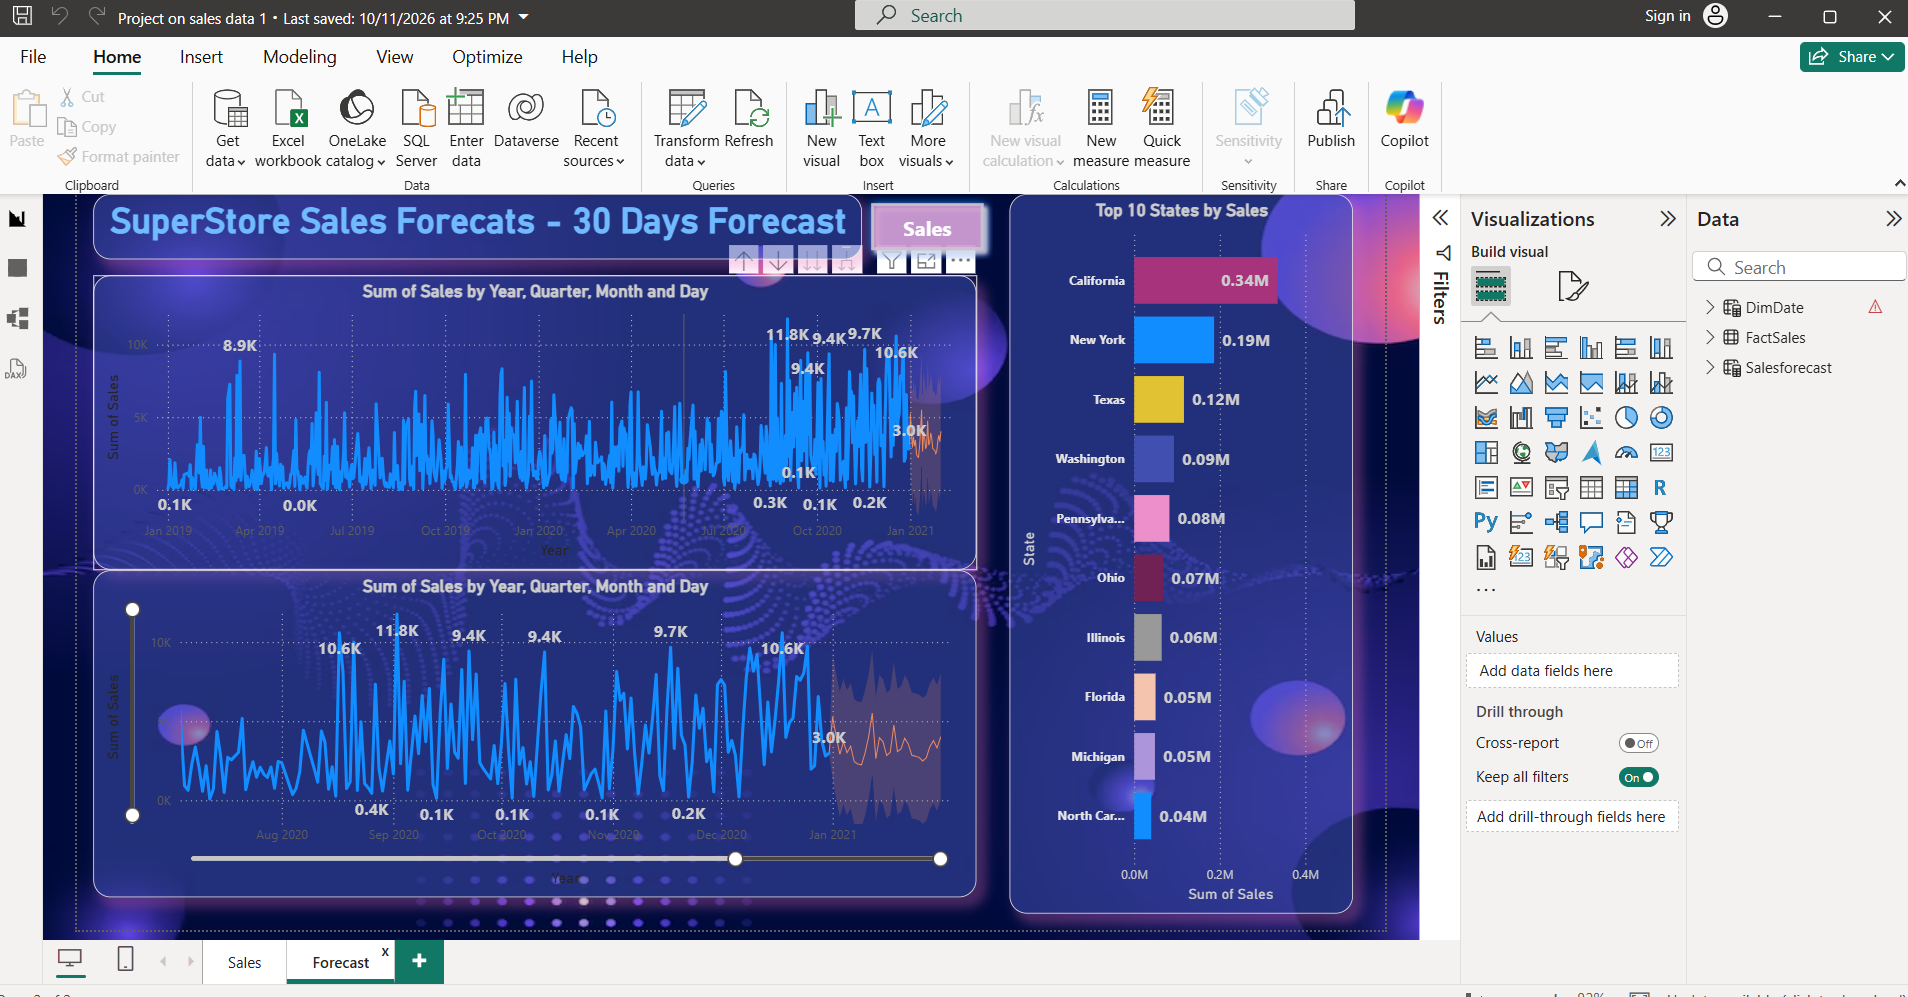

The dashboard page shown, as its layout file describes it:
{"tool":"powerbi","page":{"name":"Forecast","canvas":[1280,720],"ordinal":1},"visuals":[{"type":"lineChart","fields":{"Y":["Sum(SuperStore_Sales_Dataset.Sales)"],"Category":["SuperStore_Sales_Dataset.Order Date.Variation.Date Hierarchy.Year","SuperStore_Sales_Dataset.Order Date.Variation.Date Hierarchy.Quarter","SuperStore_Sales_Dataset.Order Date.Variation.Date Hierarchy.Month","SuperStore_Sales_Dataset.Order Date.Variation.Date Hierarchy.Day"]},"box":[16,80,864,288],"z":0},{"type":"lineChart","fields":{"Y":["Sum(SuperStore_Sales_Dataset.Sales)"],"Category":["SuperStore_Sales_Dataset.Order Date.Variation.Date Hierarchy.Year","SuperStore_Sales_Dataset.Order Date.Variation.Date Hierarchy.Quarter","SuperStore_Sales_Dataset.Order Date.Variation.Date Hierarchy.Month","SuperStore_Sales_Dataset.Order Date.Variation.Date Hierarchy.Day"]},"box":[16,384,864,320],"z":1000},{"type":"textbox","title":"SuperStore Sales Forecats - 30 Days Forecast","box":[16,0,752,64],"z":2000},{"type":"barChart","title":"Top 10 States by Sales","fields":{"Category":["SuperStore_Sales_Dataset.State"],"Y":["Sum(SuperStore_Sales_Dataset.Sales)"]},"box":[912,0,336,704],"z":3000},{"type":"actionButton","box":[768,0,128,64],"z":4000}]}

Visuals, with their boxes on the page's 1280x720 design canvas (x1, y1, x2, y2). These are canvas units, not pixel positions in the 1908x997 screenshot, which may show the page scaled, cropped or inside an application window:
lineChart - Sum(SuperStore_Sales_Dataset.Sales) x SuperStore_Sales_Dataset.Order Date.Variation.Date Hierarchy.Year: <box>16,80,880,368</box>
lineChart - Sum(SuperStore_Sales_Dataset.Sales) x SuperStore_Sales_Dataset.Order Date.Variation.Date Hierarchy.Year: <box>16,384,880,704</box>
"SuperStore Sales Forecats - 30 Days Forecast" textbox: <box>16,0,768,64</box>
"Top 10 States by Sales" barChart: <box>912,0,1248,704</box>
actionButton: <box>768,0,896,64</box>
